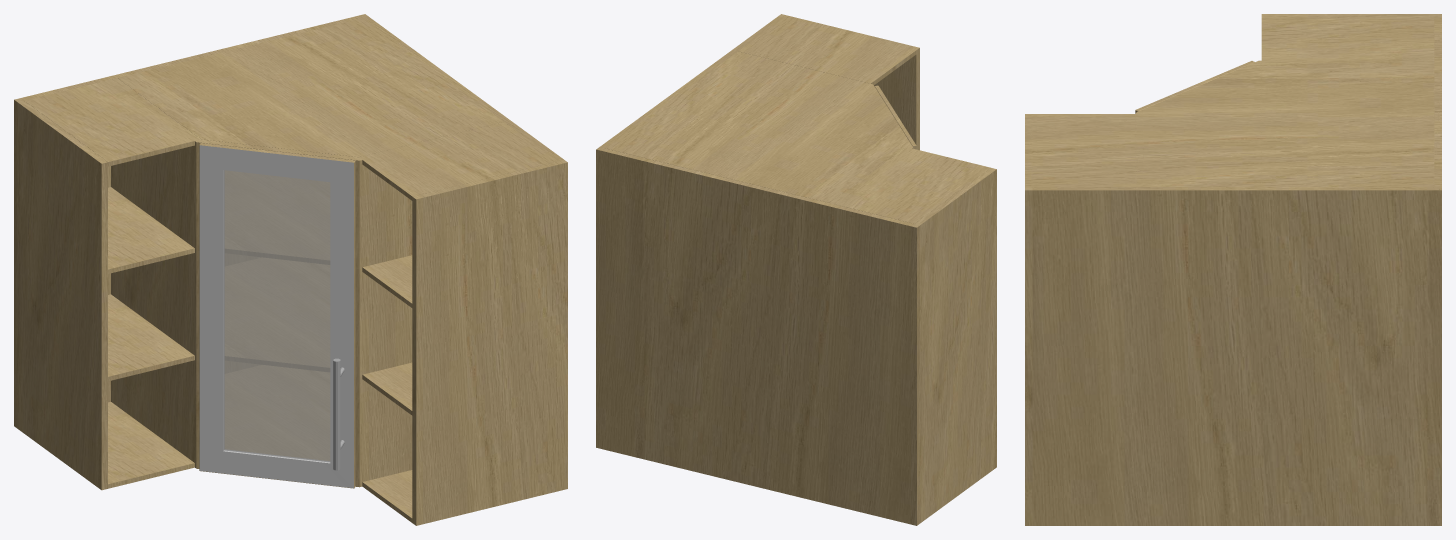
File: upperCornerCabinet.obj
3 views of the same model, side by side, from view 1: azimuth 30°, elevation 25°; view 2: azimuth 150°, elevation 25°; view 3: azimuth 270°, elevation 25° (orthographic). The views are drawn at different scales.
Visible parts, largest first — view 1: Cube.014_Cube.013; view 2: Cube.014_Cube.013; view 3: Cube.014_Cube.013.
Part boxes in pixels (x1,y1,x2,y2): Cube.014_Cube.013: (14,14,567,525); Cube.014_Cube.013: (596,14,996,525); Cube.014_Cube.013: (1025,14,1441,525).
Size of the model in its own units: 81 by 72 by 81.
6 materials, 3 textured.
